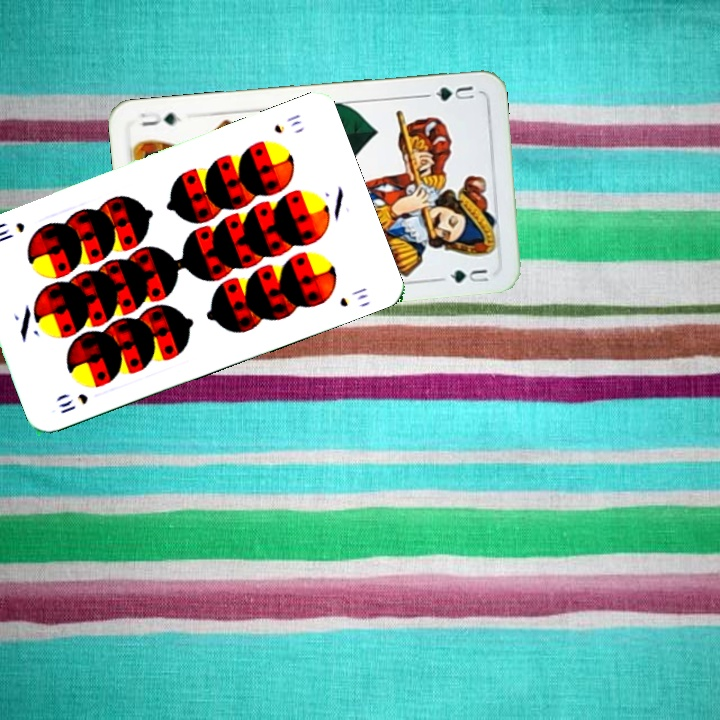GU: (421, 81, 477, 104)
S10: (55, 389, 91, 417), (270, 110, 304, 136)
